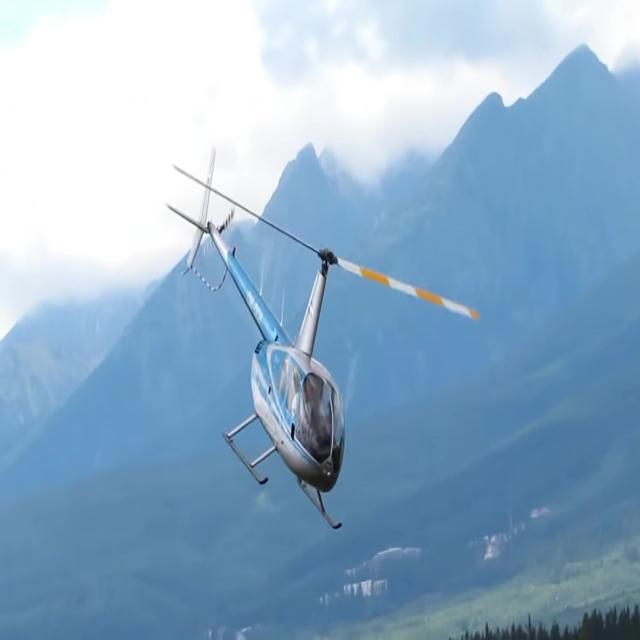CIV_HELO: (163, 145, 348, 534)
